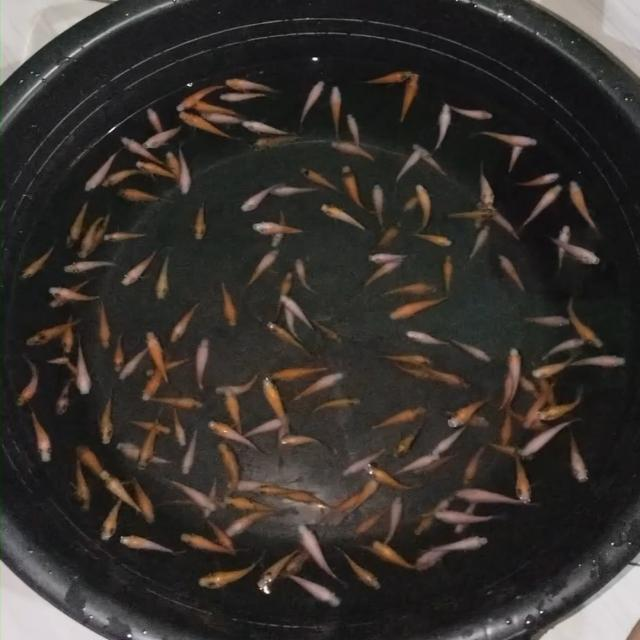nila: (296, 522, 344, 583), (515, 182, 562, 235), (166, 478, 225, 518), (568, 178, 607, 238), (518, 418, 576, 458), (546, 232, 604, 271), (254, 546, 302, 592), (19, 316, 82, 351), (99, 469, 144, 517), (534, 382, 590, 420), (338, 548, 386, 592), (208, 420, 270, 454), (266, 316, 316, 358), (82, 146, 125, 194), (262, 374, 293, 440), (174, 108, 233, 142), (196, 558, 262, 588), (518, 379, 559, 427), (290, 371, 349, 404), (239, 250, 280, 296), (144, 330, 177, 387), (286, 576, 344, 608), (567, 294, 601, 348), (319, 203, 372, 237), (78, 210, 112, 263), (411, 141, 456, 181), (324, 481, 374, 517), (136, 410, 166, 470), (367, 460, 423, 492), (386, 294, 449, 322), (174, 81, 228, 113), (454, 481, 526, 505), (354, 260, 400, 296), (226, 506, 277, 538), (366, 406, 424, 434), (118, 438, 176, 466), (72, 440, 112, 480), (298, 77, 326, 133), (14, 351, 41, 409), (374, 539, 416, 576), (114, 340, 150, 383), (479, 432, 534, 460), (238, 180, 286, 212), (339, 446, 390, 476), (18, 242, 56, 282), (566, 424, 592, 482), (446, 395, 489, 430), (166, 299, 198, 346), (512, 448, 537, 508), (338, 164, 369, 212), (26, 409, 54, 462), (396, 69, 422, 126), (120, 248, 157, 288), (47, 274, 89, 309), (214, 440, 241, 494), (280, 290, 316, 330), (392, 420, 428, 460), (140, 354, 170, 402), (145, 389, 205, 413), (180, 530, 242, 553), (118, 135, 166, 164), (120, 534, 182, 556), (296, 166, 346, 193), (448, 338, 496, 366), (242, 413, 290, 441), (389, 450, 436, 478), (428, 425, 469, 457), (280, 300, 309, 345), (477, 128, 542, 148), (270, 266, 294, 320), (137, 157, 185, 184), (461, 440, 488, 488), (364, 221, 402, 255), (489, 368, 515, 417), (466, 222, 496, 264), (384, 492, 406, 549), (412, 449, 460, 475), (376, 280, 438, 300), (113, 183, 172, 204), (222, 388, 250, 432), (224, 76, 282, 97), (268, 363, 332, 382), (180, 423, 202, 478), (351, 478, 382, 517), (224, 493, 284, 513), (432, 534, 492, 554), (196, 109, 259, 128), (532, 358, 560, 400), (213, 372, 260, 397), (424, 366, 472, 390), (134, 478, 158, 526), (99, 497, 123, 545), (286, 489, 336, 512), (394, 144, 424, 182), (498, 252, 528, 290), (286, 540, 316, 578), (70, 458, 91, 512), (329, 138, 376, 162), (434, 511, 508, 526), (537, 337, 585, 360), (66, 200, 88, 250), (142, 356, 192, 378), (142, 122, 184, 148), (431, 100, 451, 154), (276, 432, 330, 452), (412, 545, 452, 572), (61, 258, 120, 276), (440, 410, 493, 430), (200, 474, 222, 522), (102, 166, 146, 190), (510, 408, 558, 430), (488, 208, 522, 239), (505, 342, 522, 404), (47, 283, 105, 301), (244, 134, 296, 154), (294, 252, 320, 292), (530, 358, 577, 380), (98, 391, 116, 448), (494, 403, 516, 449), (192, 98, 248, 116), (218, 280, 239, 328), (95, 297, 114, 350), (510, 168, 560, 188), (452, 499, 479, 536), (239, 117, 288, 137), (554, 219, 572, 273), (413, 186, 435, 230), (154, 252, 174, 300), (196, 336, 212, 396), (312, 318, 346, 346), (255, 484, 323, 498), (572, 354, 628, 371), (175, 146, 195, 193), (433, 482, 463, 513), (250, 220, 308, 236), (273, 408, 289, 466), (209, 521, 238, 553), (82, 211, 105, 251), (314, 396, 368, 413), (520, 314, 574, 331), (393, 363, 441, 382), (265, 207, 288, 246), (330, 84, 346, 140), (76, 334, 90, 397), (54, 374, 74, 418), (504, 368, 539, 393), (410, 231, 456, 250), (440, 252, 458, 300), (131, 416, 174, 436), (360, 70, 410, 87), (163, 497, 240, 508), (346, 112, 366, 152), (353, 539, 389, 561), (164, 152, 186, 188), (416, 507, 447, 532), (220, 89, 268, 105), (448, 105, 496, 121), (192, 195, 208, 243), (372, 182, 388, 229), (266, 186, 328, 198), (448, 208, 494, 224), (171, 405, 188, 447), (226, 479, 280, 492), (405, 331, 446, 348), (478, 168, 496, 206), (502, 140, 522, 174), (403, 188, 429, 214), (110, 332, 126, 374), (143, 102, 165, 132), (102, 229, 152, 242), (62, 312, 77, 355), (64, 354, 84, 382), (362, 253, 416, 263), (379, 354, 432, 364), (473, 196, 483, 237), (42, 355, 69, 367)
